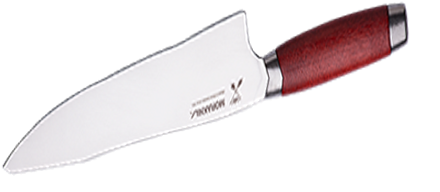knife: (5, 1, 407, 171)
